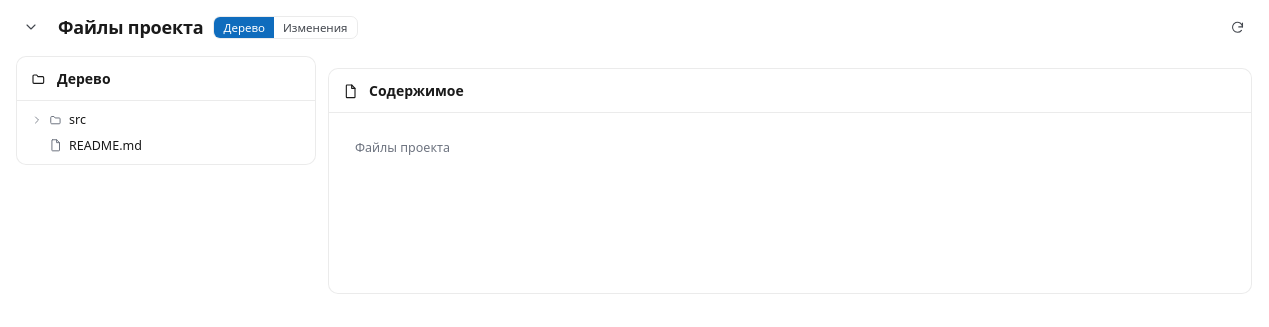
Test: the project's files › reads a file only when it is picked
The width and height of the screenshot is (1269, 327).
expect the text "README.md" is shown: met, box x1=69 y1=136 x2=142 y2=154
What coordinates should you click on to do the following:
click the button "README.md"
I would click on:
 (105, 145)
Its box is x1=23 y1=132 x2=309 y2=158.
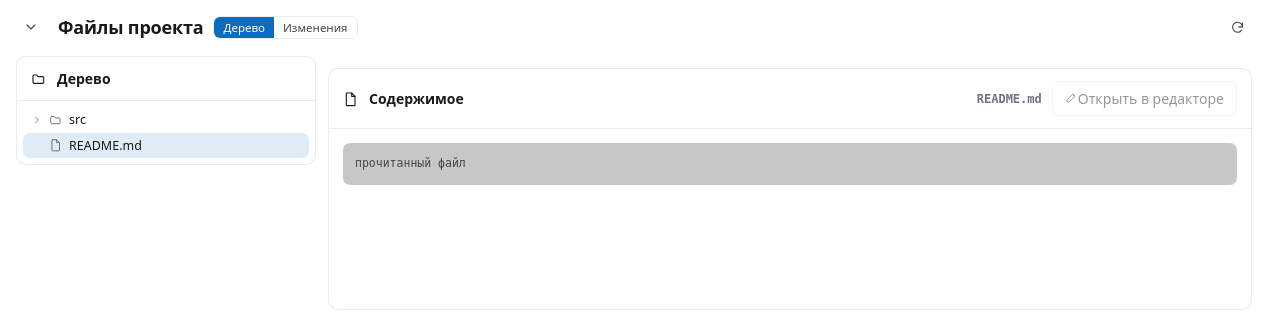
expect the text "прочитанный файл" is shown: met, box x1=343 y1=143 x2=1237 y2=185
